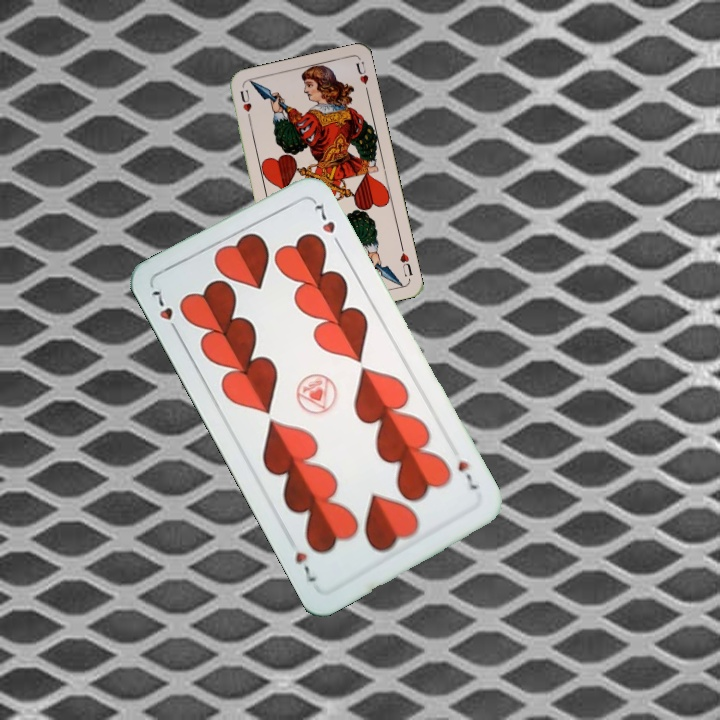H7: (147, 286, 182, 338), (453, 457, 480, 493)
HU: (396, 241, 415, 279), (236, 86, 254, 124)
